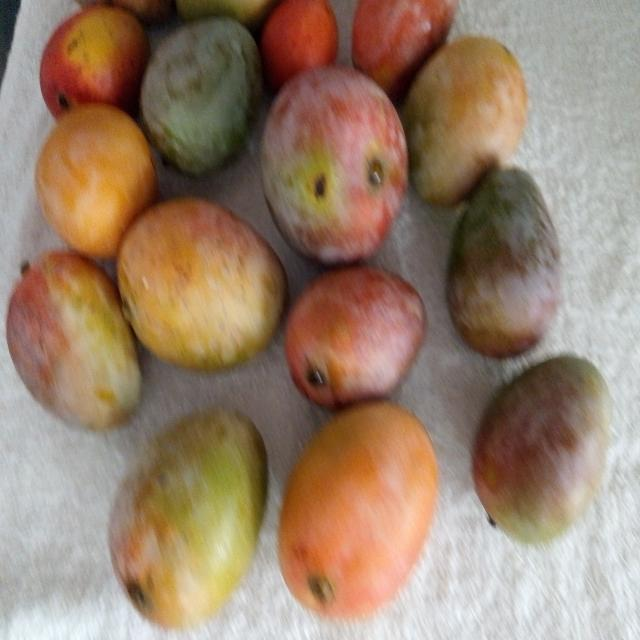mango: (279, 400, 436, 621), (110, 410, 267, 627), (116, 194, 291, 374), (260, 63, 406, 262), (473, 356, 611, 542), (6, 247, 141, 429), (447, 168, 560, 357), (287, 258, 428, 402), (39, 2, 152, 117)
